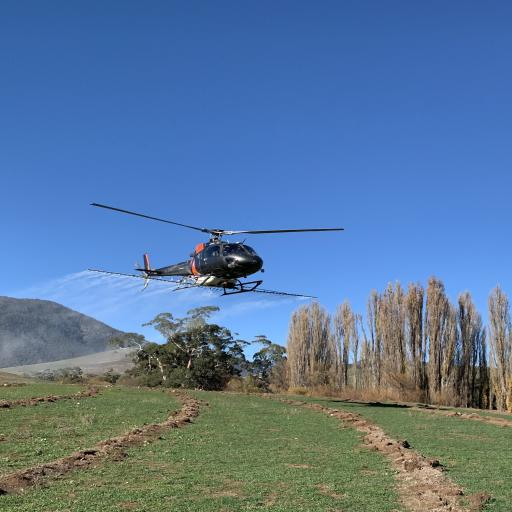helicopter: (97, 187, 363, 307)
